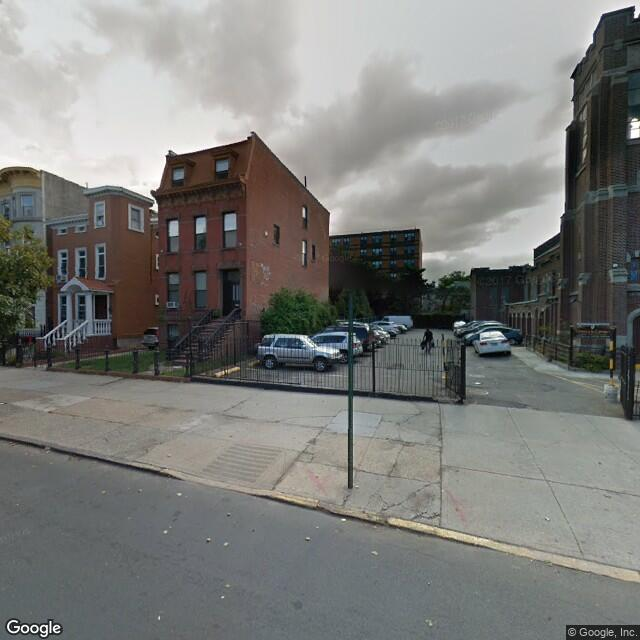litter: (340, 518, 347, 523), (475, 381, 481, 385)
